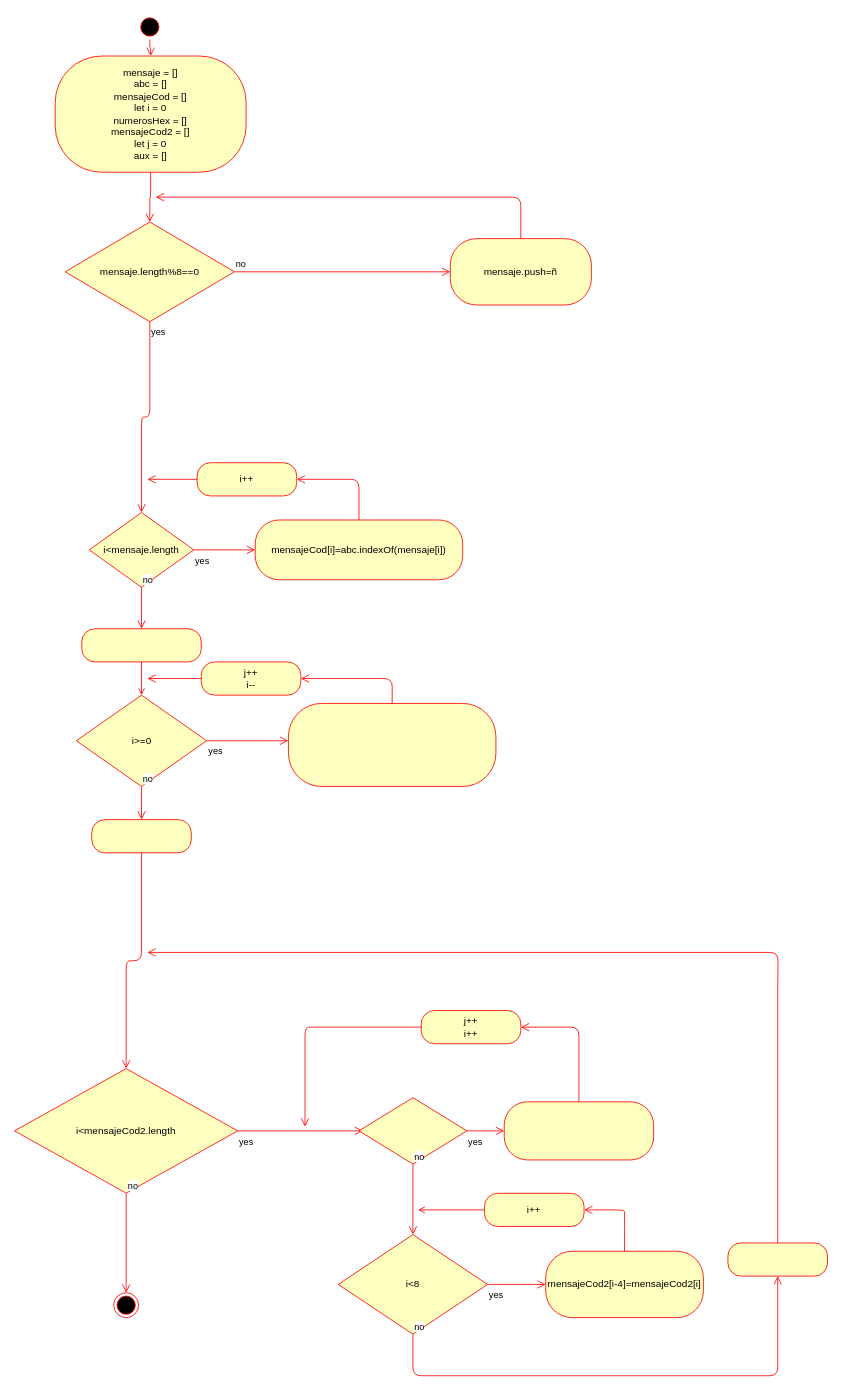
This 842x1399 diagram has some shape labels left out. Each missing label, with the box of its shape:
aux[j]=mensajeCod2[j]: (503, 1101, 654, 1160)
i = mensajeCod.length - 1: (81, 628, 201, 662)
i=0 j=0: (91, 819, 191, 853)
j<4: (358, 1097, 467, 1164)
j=0: (727, 1242, 828, 1276)
mensajeCod2[j]=numerosHex[mensajecod[i]]: (288, 703, 496, 786)
